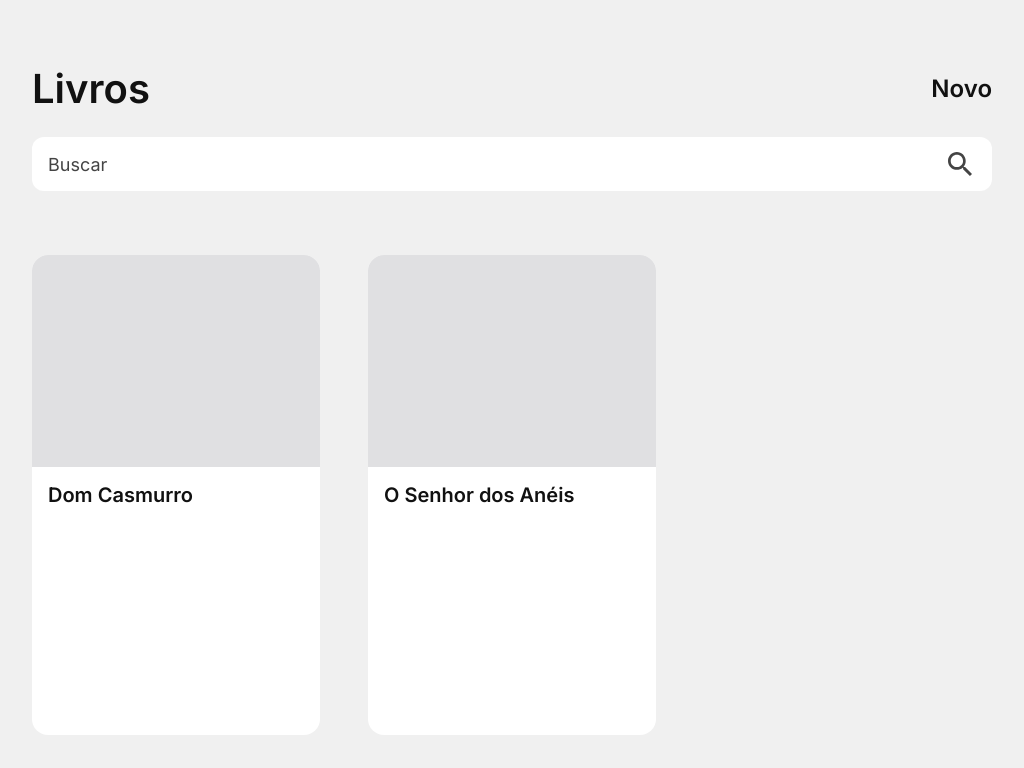
Test case: ListaLivros › filtra os livros pelo título digitado na busca
The width and height of the screenshot is (1024, 768).
Check: the heading "Dom Casmurro" is shown, box [48,483,193,507]
Step 1. Type "senhor" into the field with placeholder "Buscar" → coordinates (512, 164), box [32,137,992,191]
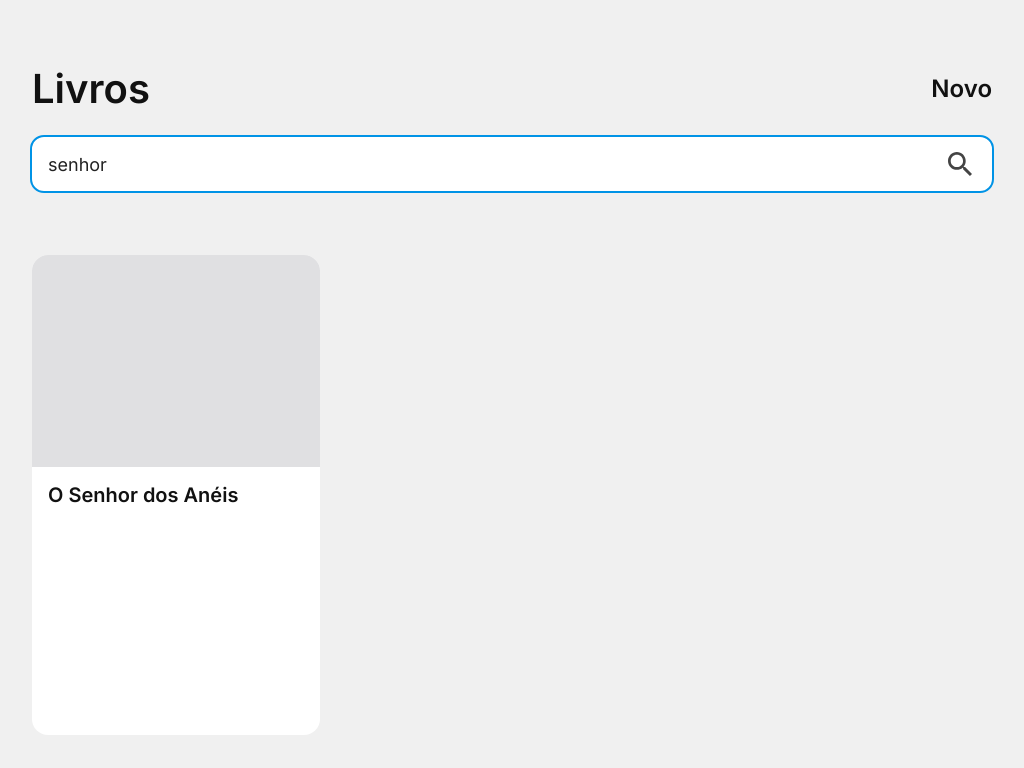
Check: the heading "O Senhor dos Anéis" is shown, box [48,483,238,507]
Check: the link "Dom Casmurro" is gone
